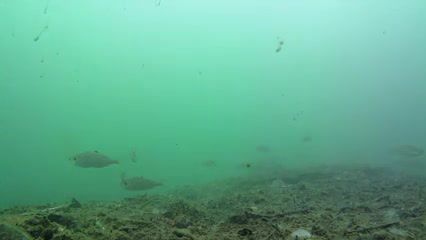smallfish: (63, 146, 127, 176), (117, 174, 165, 193)
